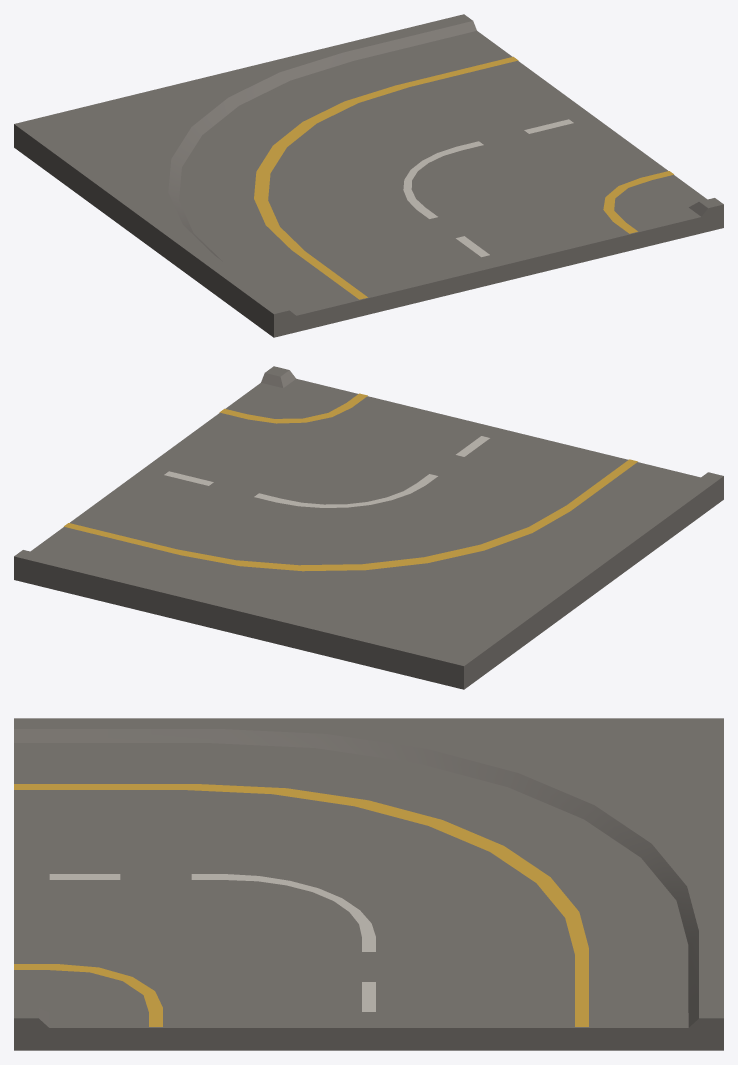
File: road_corner.gltf
The picture shows the model from 3 angles, top to bottom: view 1: azimuth 30°, elevation 25°; view 2: azimuth 150°, elevation 25°; view 3: azimuth 270°, elevation 25°; orthographic projection. The views are drawn at different scales.
Visible parts, largest first — view 1: road_corner; view 2: road_corner; view 3: road_corner.
Boxes of the visible parts, <box> form: road_corner: <box>14,14,723,337</box>; road_corner: <box>14,366,723,689</box>; road_corner: <box>14,718,723,1050</box>.
Bounding box in the file's own units: 6 × 0.3 × 6.
